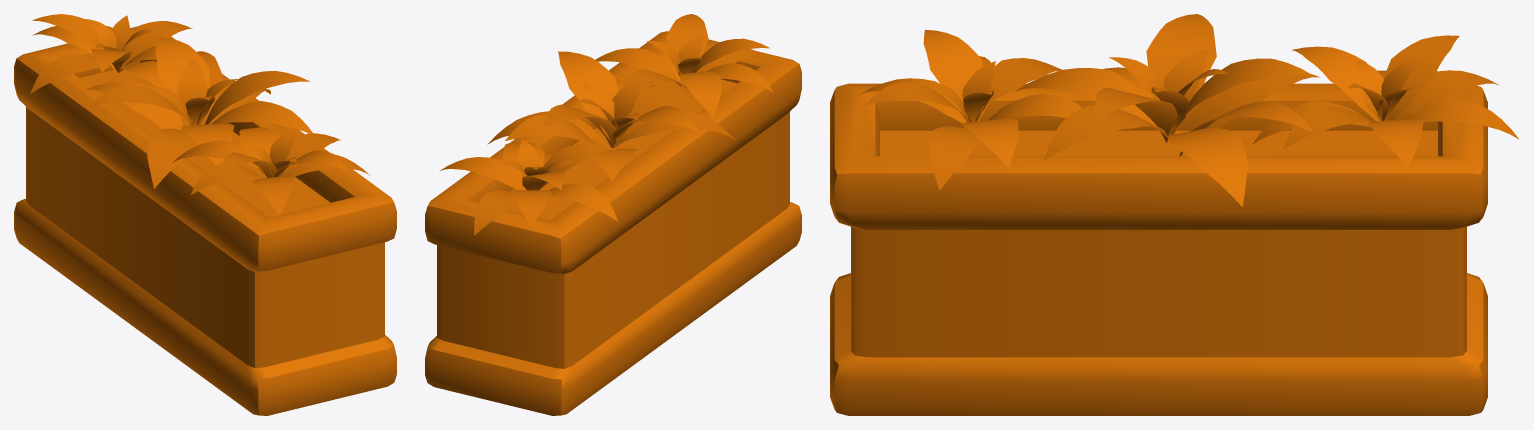
File: SM_Plants001.fbx
3 renders of one model, left to right at view 1: azimuth 30°, elevation 25°; view 2: azimuth 150°, elevation 25°; view 3: azimuth 270°, elevation 25°, orthographic. The views are drawn at different scales.
Visible parts, largest first — view 1: SM_Plants001; view 2: SM_Plants001; view 3: SM_Plants001.
Part boxes in pixels (<box>): SM_Plants001: <box>14,14,396,415</box>; SM_Plants001: <box>425,14,801,415</box>; SM_Plants001: <box>830,14,1519,415</box>.
Bounding box in the file's own units: 118 × 131 × 266.
